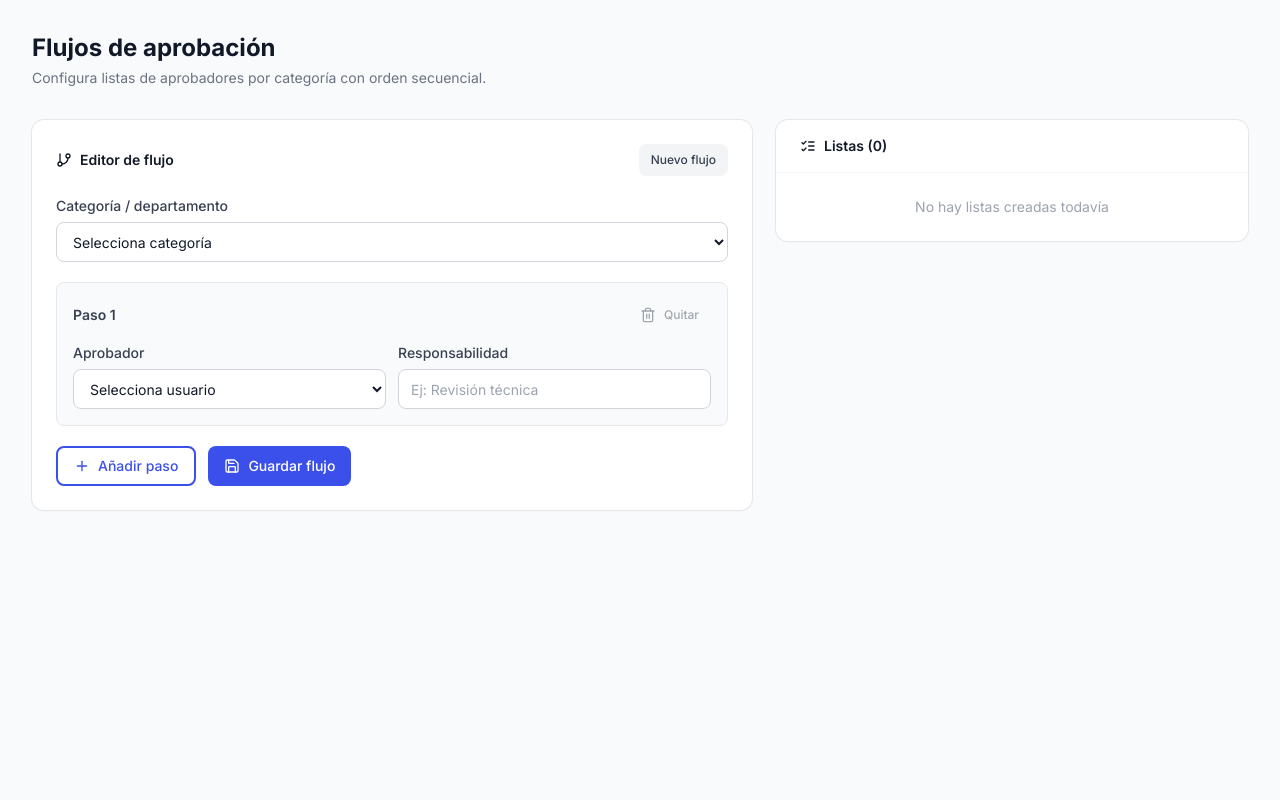
Test case: ApprovalWorkflowsPage › valida que no se repita el mismo aprobador
This screenshot has width=1280, height=800.
Select "Procedimiento" in the dropdown labelled "Categoría / departamento". click: (392, 242)
box: [56, 222, 728, 262]
Select "Ana (ana@empresa.com)" in the dropdown labelled "Aprobador". click: (230, 389)
box: [73, 369, 386, 409]
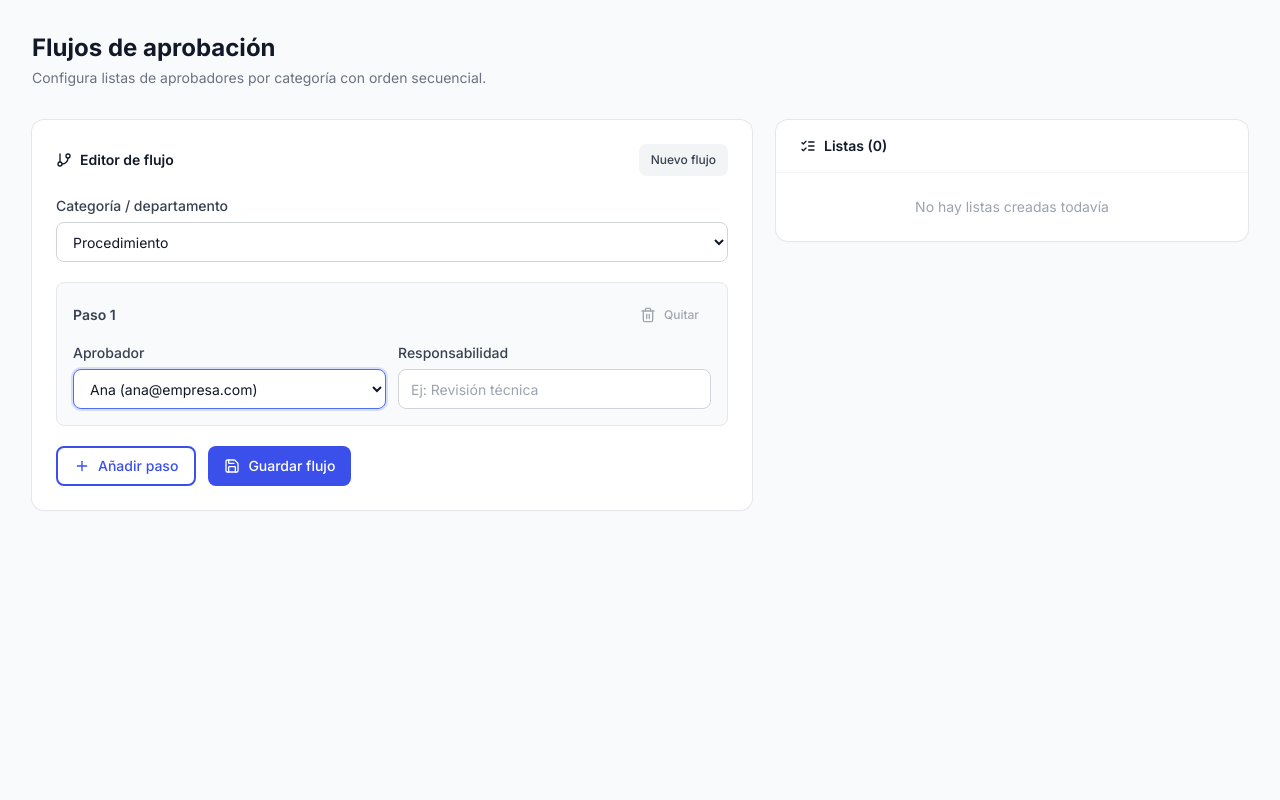
Type "Revisión documental" into the field labelled "Responsabilidad". click: (554, 389)
box: [398, 369, 711, 409]
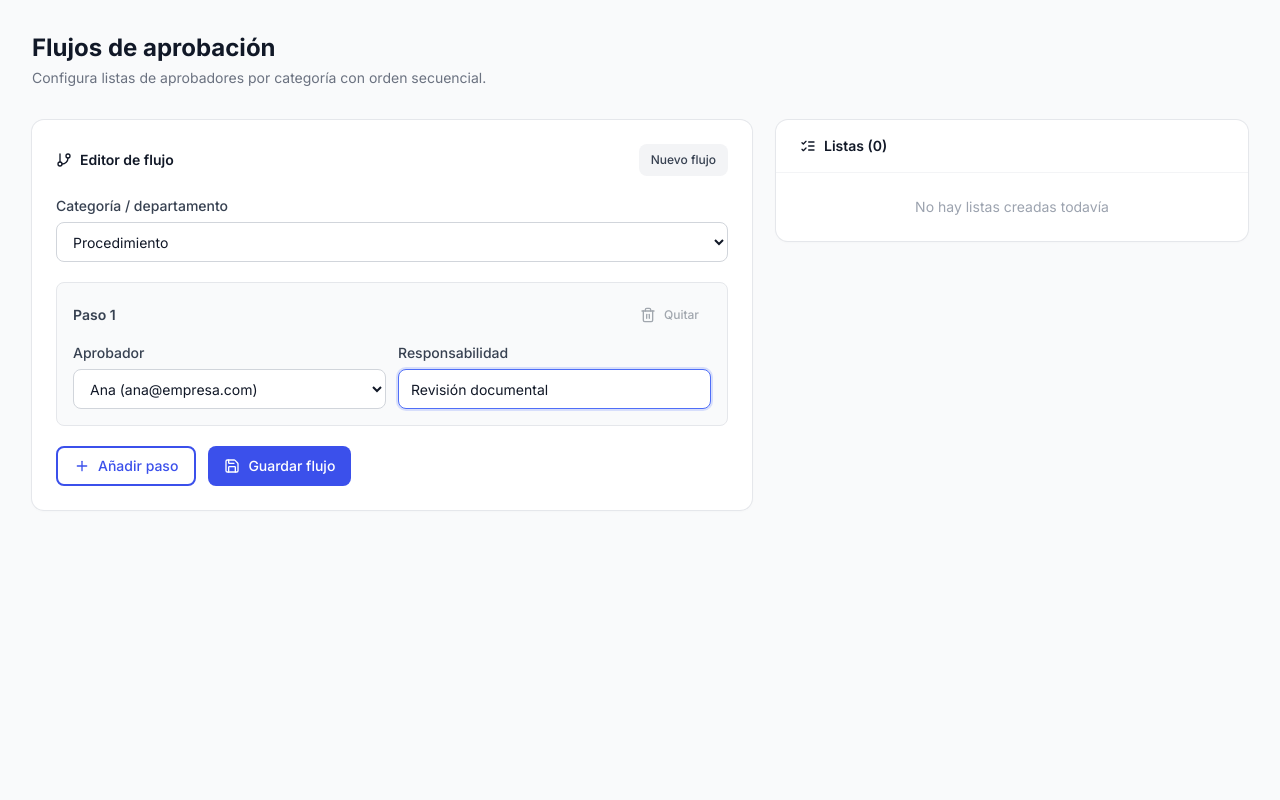
Click the button "Añadir paso". click: (126, 466)
box: [56, 446, 196, 486]
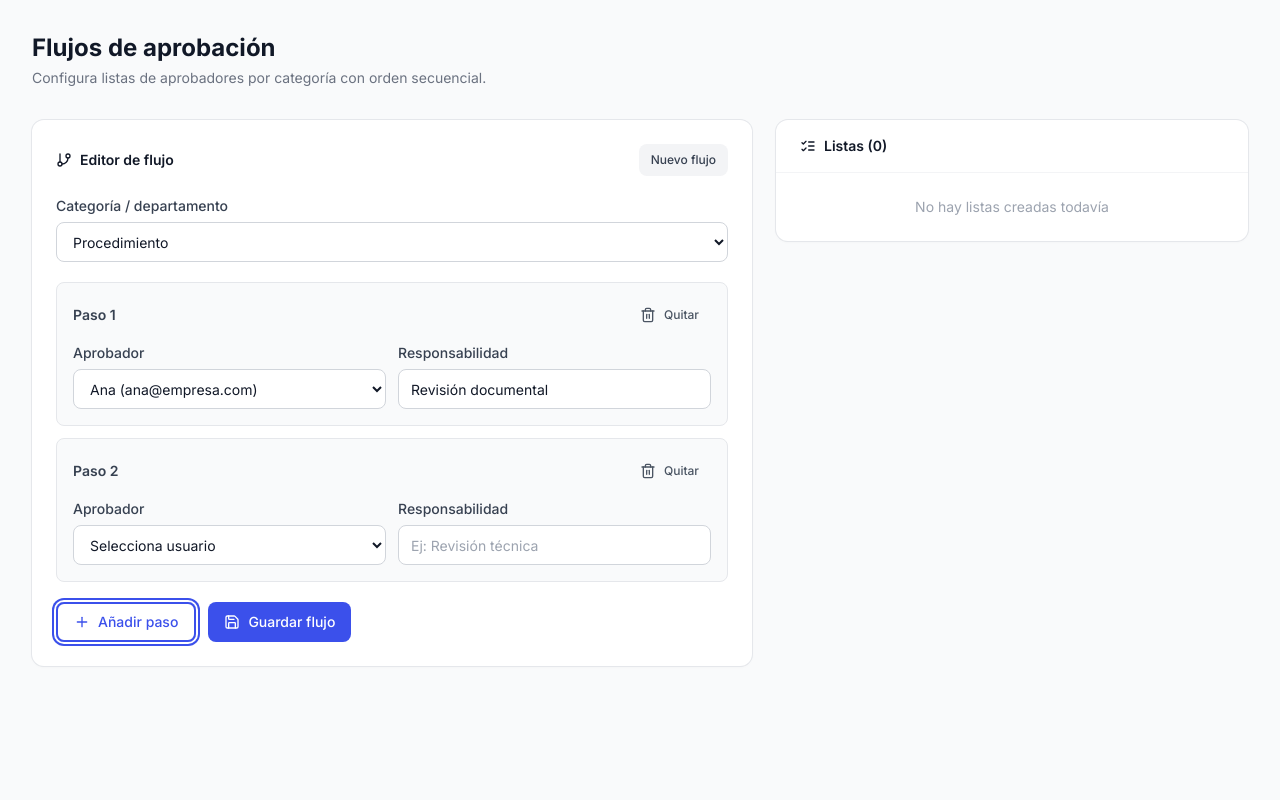
Select "Ana (ana@empresa.com)" in the 2nd dropdown labelled "Aprobador". click: (230, 545)
box: [73, 525, 386, 565]
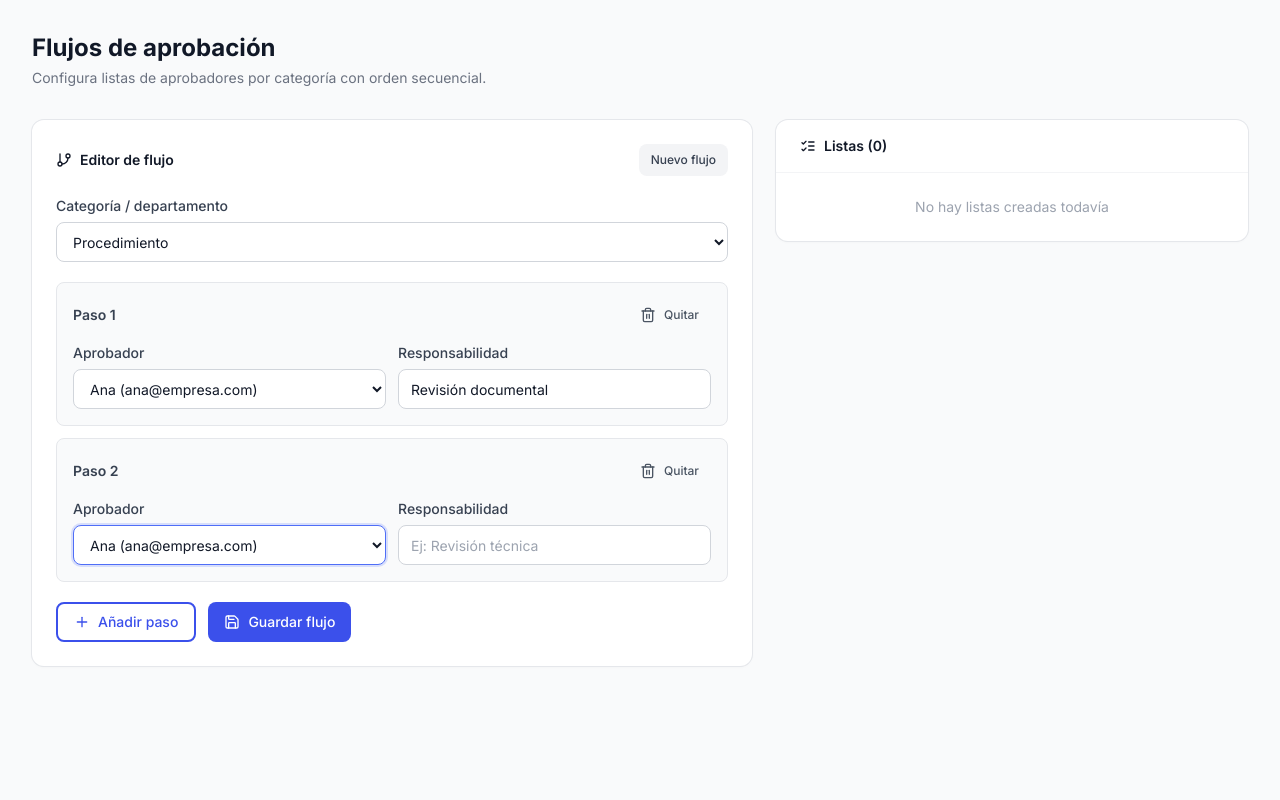
Type "Aprobación final" into the 2nd field labelled "Responsabilidad". click: (554, 545)
box: [398, 525, 711, 565]
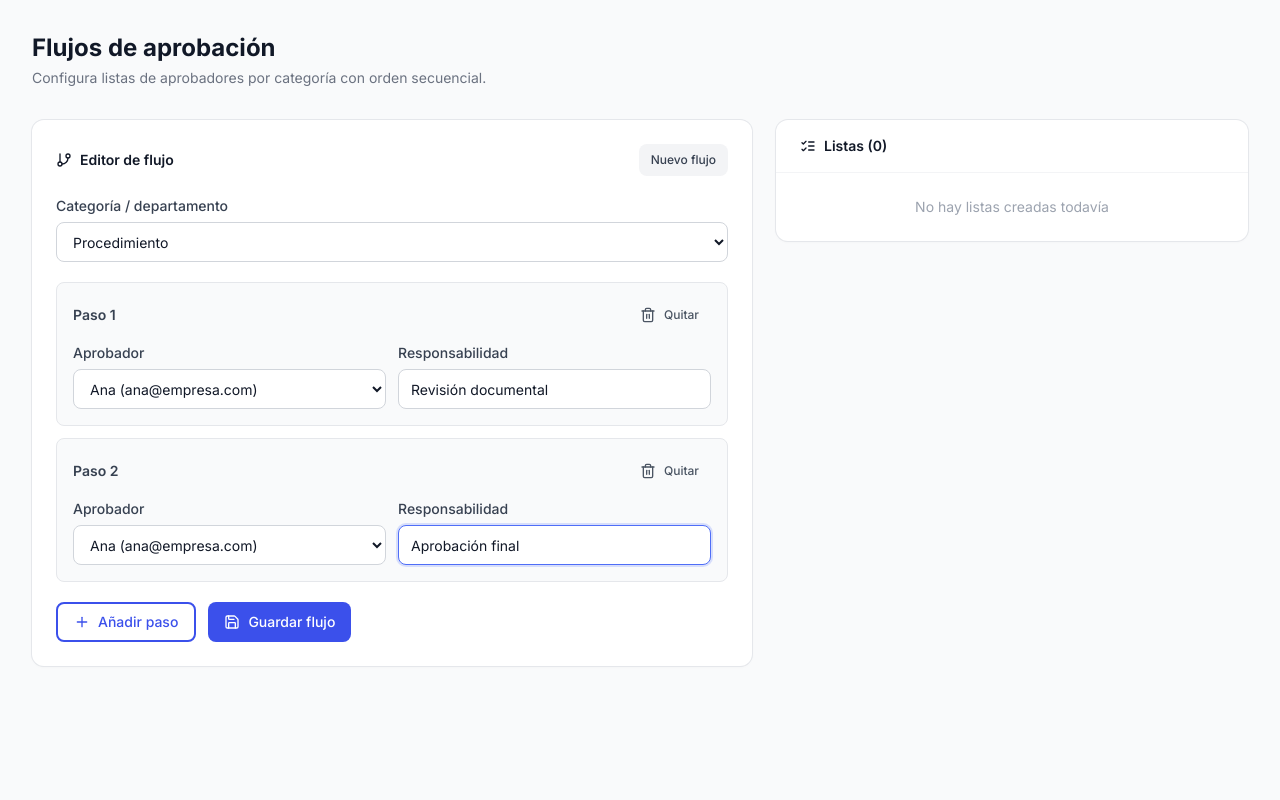
Click the button "Guardar flujo". click: (280, 622)
box: [208, 602, 351, 642]
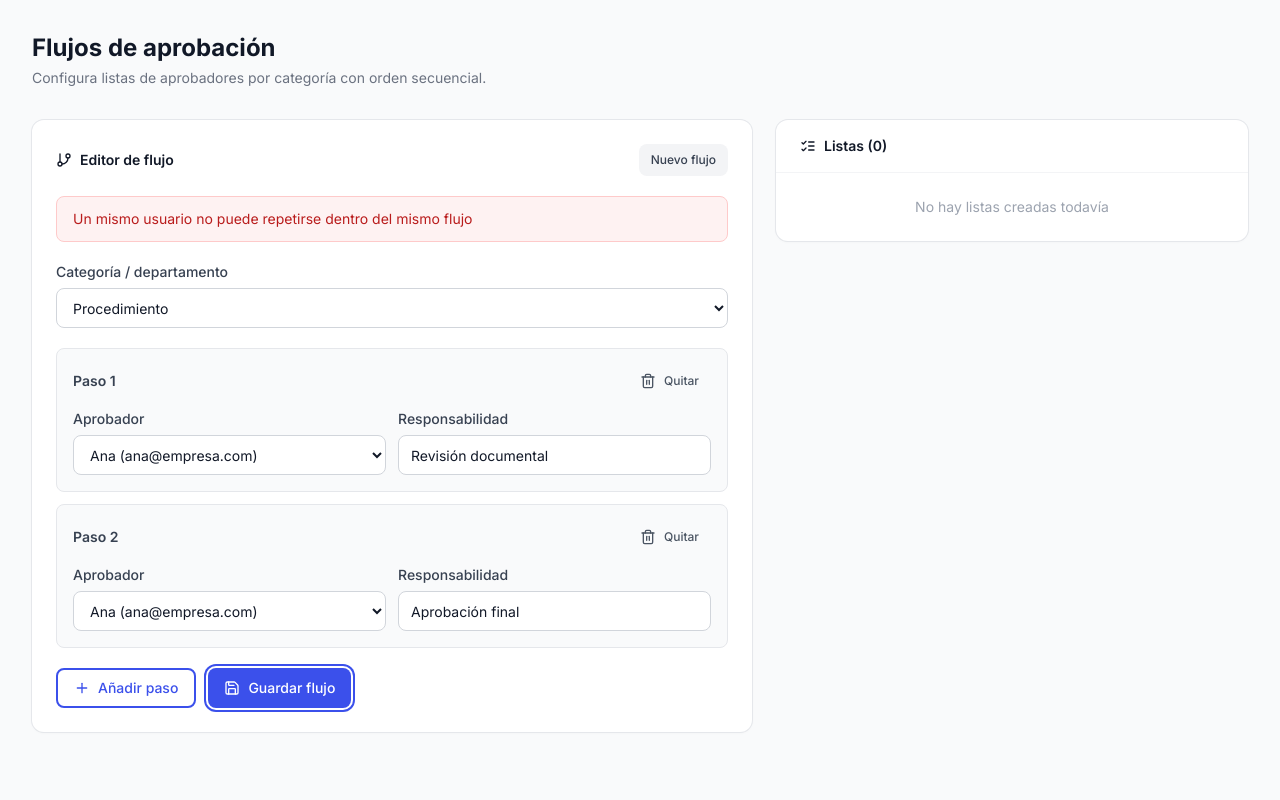
Result: the text "Un mismo usuario no puede repetirse dentro del mismo flujo" is shown at [56, 196, 728, 242]
